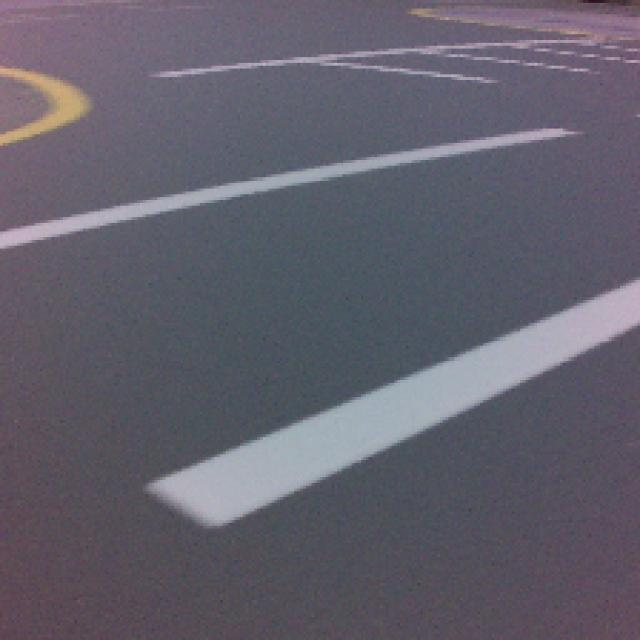Guard rail: (150, 282, 640, 519)
